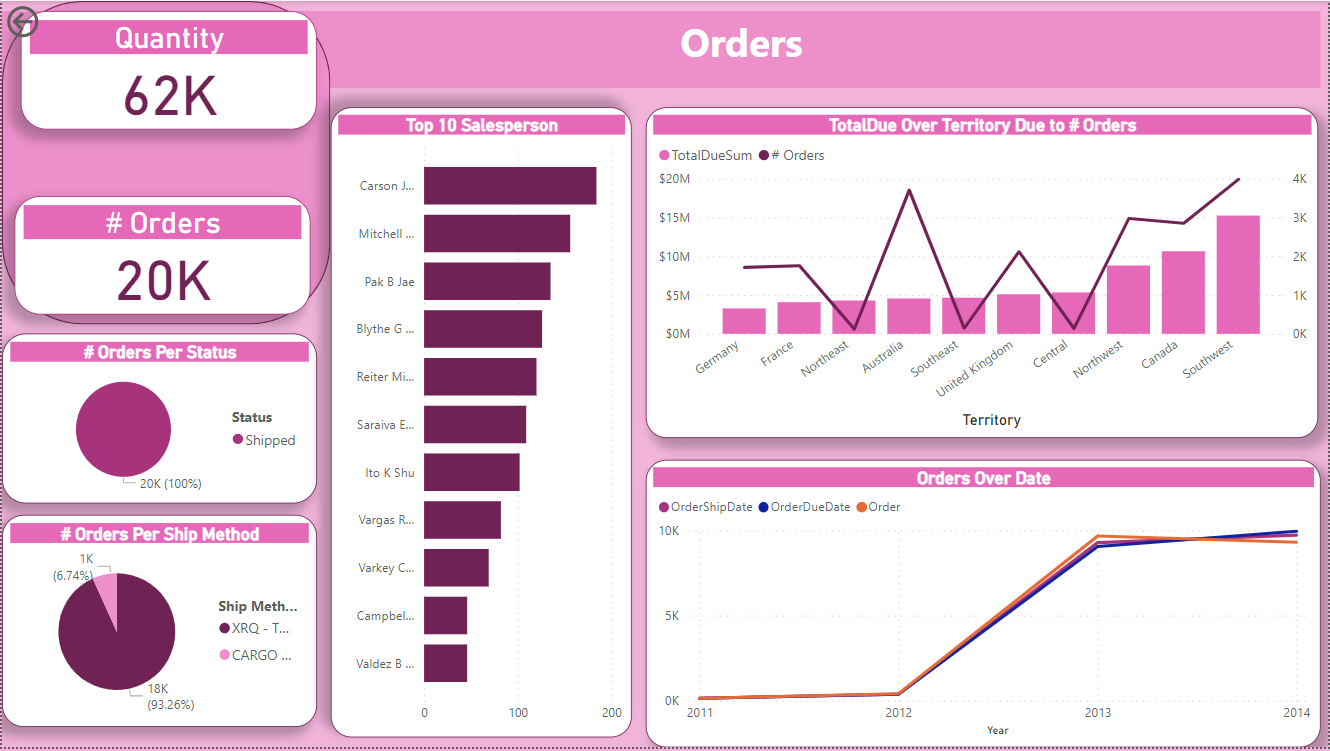

This screenshot's page, from the dashboard's own definition file:
{"tool":"powerbi","page":{"name":"Orders","canvas":[1280,720],"ordinal":1},"visuals":[{"type":"textbox","box":[0,9.6,1272.4,74.8],"z":0},{"type":"shape","box":[0,0,317.2,312.4],"z":1000},{"type":"lineChart","title":"Orders Over Date","fields":{"Y":["Order Details.OrderShipDate","Order Details.OrderDueDate","Order Details.Order"],"Category":["Date.Date.Variation.Date Hierarchy.Year","Date.Date.Variation.Date Hierarchy.Quarter","Date.Date.Variation.Date Hierarchy.Month","Date.Date.Variation.Date Hierarchy.Day"]},"box":[621.1,442.6,651.3,277.4],"z":3000},{"type":"card","title":"# Orders","fields":{"Values":["Table.# Orders"]},"box":[12.1,188.1,285.8,114.6],"z":5000},{"type":"card","title":"Quantity","fields":{"Values":["Order Details.Quantity"]},"box":[18.1,9.6,285.8,114.6],"z":6000},{"type":"pieChart","title":"# Orders Per Status","fields":{"Y":["Table.# Orders"],"Category":["Order Details.Status"]},"box":[0,320.8,303.9,164],"z":7000},{"type":"pieChart","title":"# Orders Per Ship Method","fields":{"Y":["Table.# Orders"],"Category":["Order Details.Ship Method"]},"box":[0,495.7,303.9,205],"z":8000},{"type":"clusteredBarChart","title":"Top 10 Salesperson","fields":{"Category":["Order Details.Sales Person Name"],"Y":["Table.# Orders"]},"box":[317.2,102.5,290.7,607.8],"z":9000},{"type":"actionButton","box":[0,0,100,40],"z":10000},{"type":"lineStackedColumnComboChart","title":"TotalDue Over Territory Due to # Orders","fields":{"Y":["Order Details.TotalDueSum"],"Category":["Territory.Territory"],"Y2":["Table.# Orders"]},"box":[621.1,102.5,648.8,319.6],"z":10001}]}

Visuals, with their boxes in screenshot pixels (x1, y1, x2, y2), scaled from the page's 1280x720 canvas onto the 1330x751 screenshot:
textbox: select_region(0, 10, 1322, 88)
shape: select_region(0, 0, 330, 326)
"Orders Over Date" lineChart: select_region(645, 462, 1322, 750)
"# Orders" card: select_region(13, 196, 310, 316)
"Quantity" card: select_region(19, 10, 316, 130)
"# Orders Per Status" pieChart: select_region(0, 335, 316, 506)
"# Orders Per Ship Method" pieChart: select_region(0, 517, 316, 731)
"Top 10 Salesperson" clusteredBarChart: select_region(330, 107, 632, 741)
actionButton: select_region(0, 0, 104, 42)
"TotalDue Over Territory Due to # Orders" lineStackedColumnComboChart: select_region(645, 107, 1320, 440)
